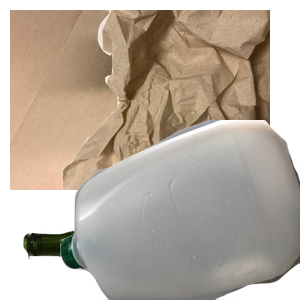cardboard: (10, 10, 250, 190)
glass: (21, 201, 261, 300)
plastic: (60, 120, 300, 300)
trash: (60, 10, 300, 190)
